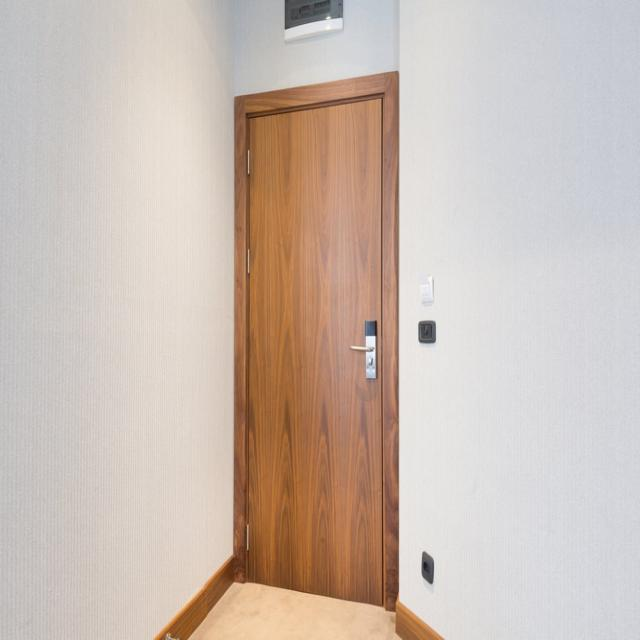close: (238, 103, 399, 606)
